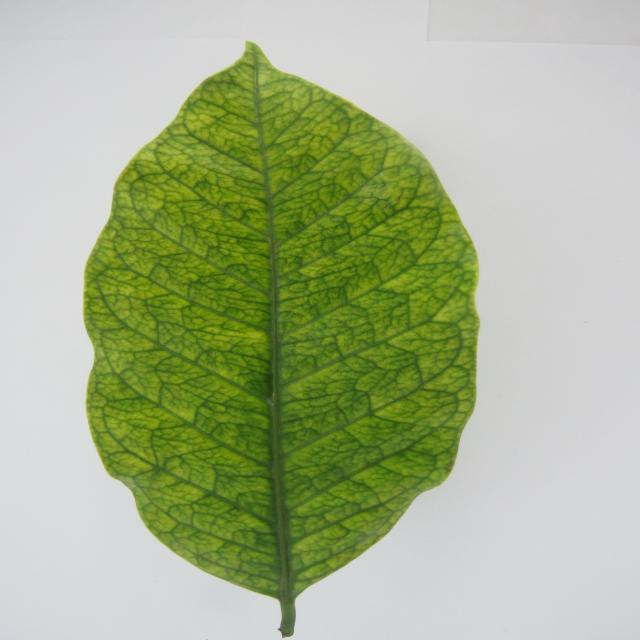DeficienciaNutricional-Hierro: (84, 40, 479, 639)
